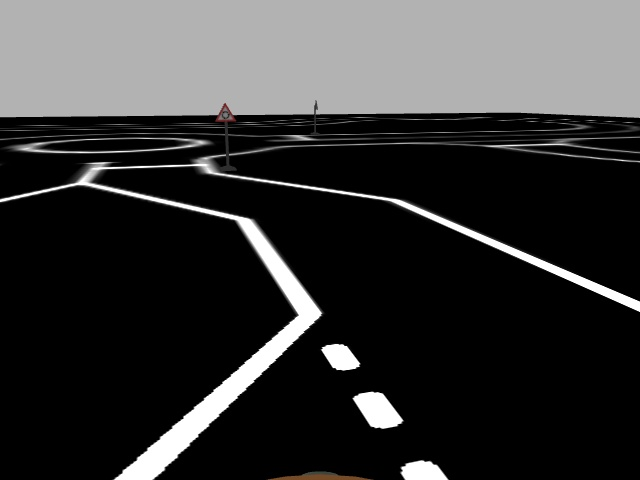roundabout: (213, 101, 236, 121)
